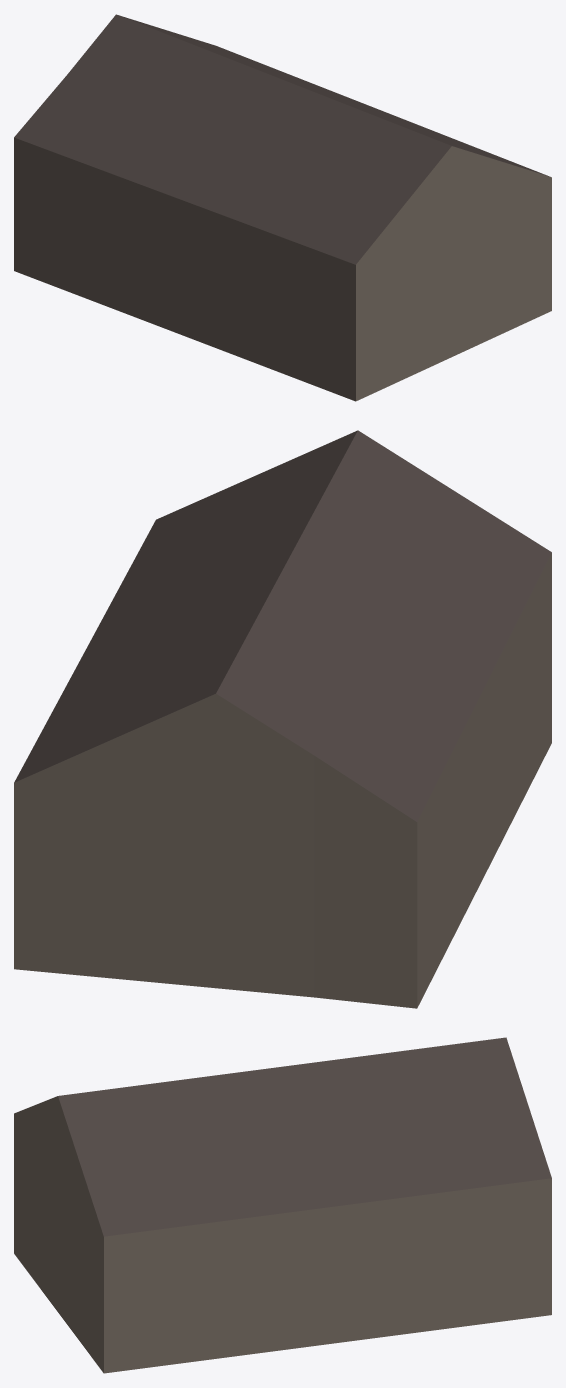
3 renders of one model, top to bottom at view 1: azimuth 30°, elevation 25°; view 2: azimuth 150°, elevation 25°; view 3: azimuth 270°, elevation 25°, orthographic. The views are drawn at different scales.
Visible parts, largest first — view 1: HP-w1198645047; view 2: HP-w1198645047; view 3: HP-w1198645047.
Boxes of the visible parts, x1,y1,x2,y2 form: HP-w1198645047: [14, 14, 551, 401]; HP-w1198645047: [14, 430, 551, 1008]; HP-w1198645047: [14, 1037, 551, 1373].
Size of the model in its own units: 17.05 by 9.49 by 21.38.
